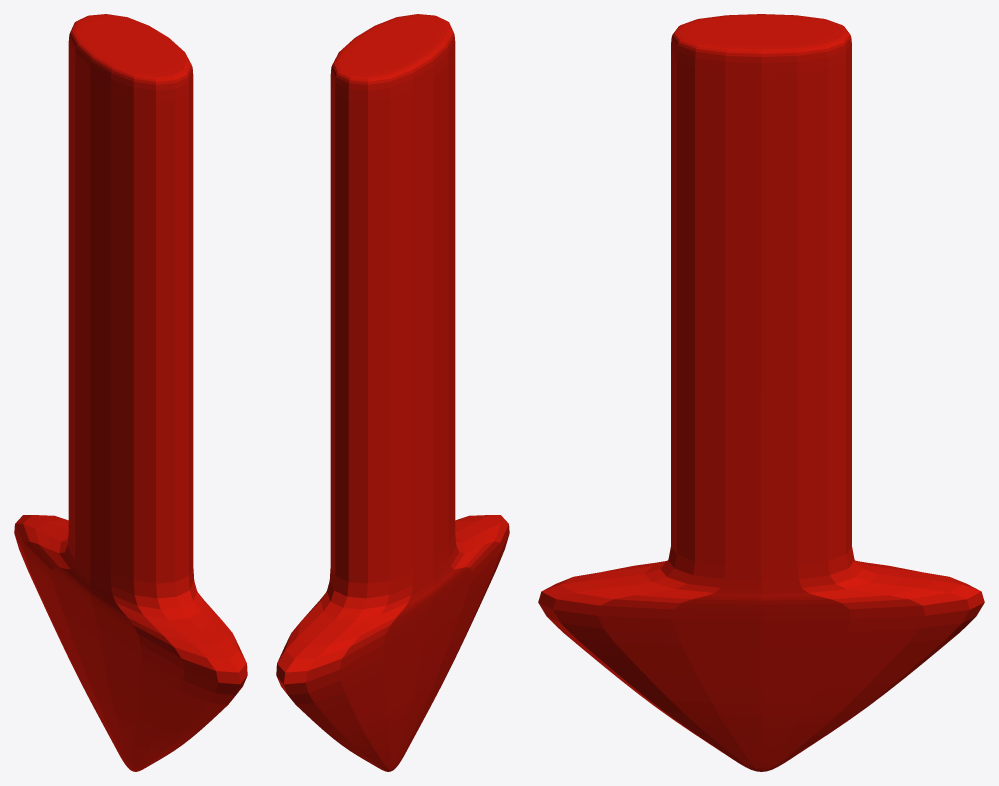
The model's file is Arrow animated.fbx.
3 views of the same model, side by side, from view 1: azimuth 30°, elevation 25°; view 2: azimuth 150°, elevation 25°; view 3: azimuth 270°, elevation 25° (orthographic). The views are drawn at different scales.
Parts seen in each view (by area): view 1: Cube; view 2: Cube; view 3: Cube.
Part boxes in pixels (x1,y1,x2,y2): Cube: [14, 14, 247, 771]; Cube: [276, 14, 509, 771]; Cube: [538, 14, 984, 771].
Size of the model in its own units: 99.33 by 846 by 462.
